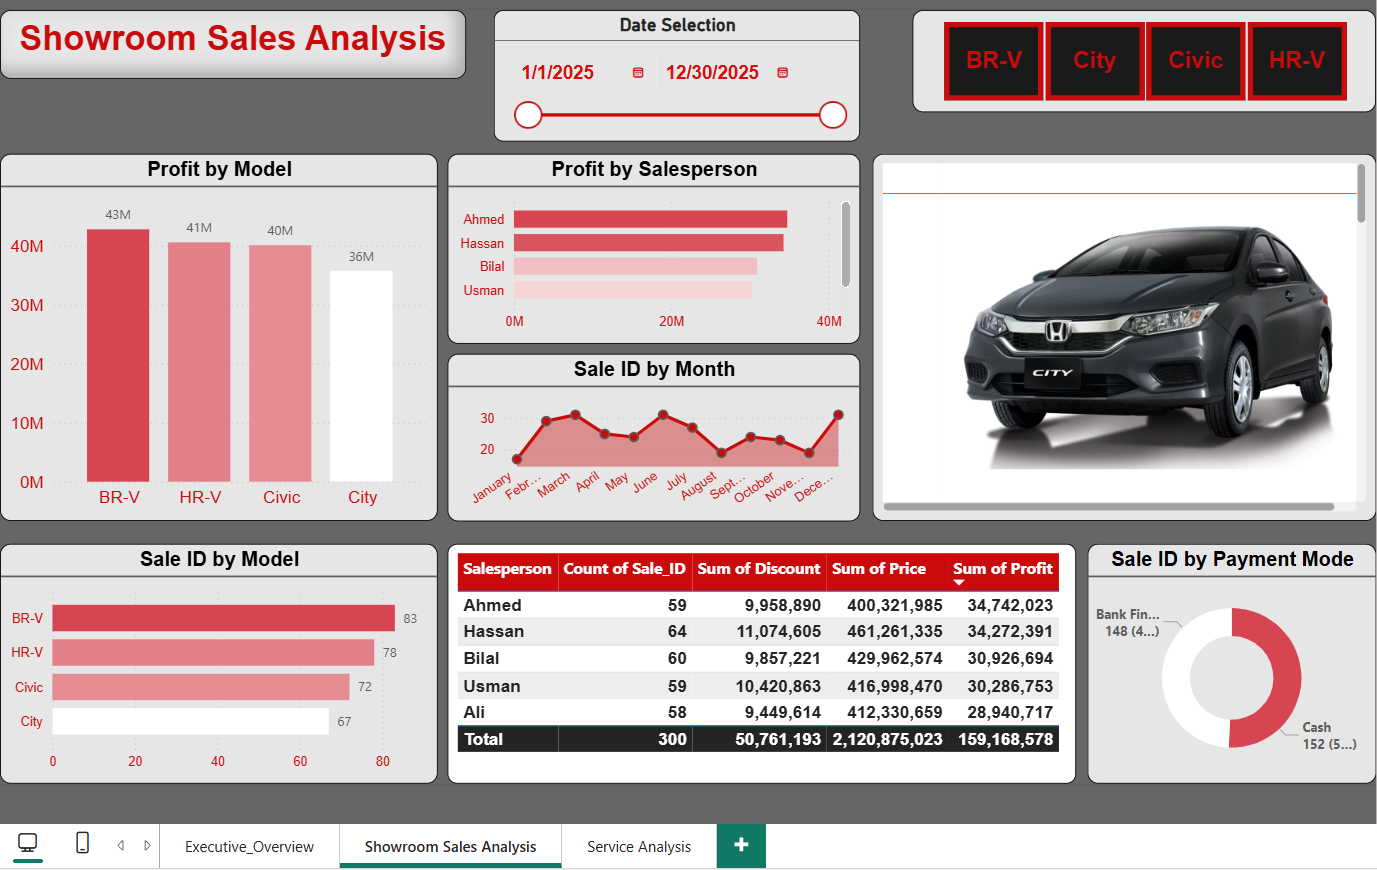

Layout of this report page (visuals, bound fields, positions):
{"tool":"powerbi","page":{"name":"Showroom Sales Analysis","canvas":[1280,720],"ordinal":1},"visuals":[{"type":"clusteredBarChart","title":"Sale ID by Model","fields":{"Category":["Honda_Car _Sale.Model"],"Y":["CountNonNull(Honda_Car _Sale.Sale_ID)"]},"box":[0,496.5,407,223.3],"z":0},{"type":"clusteredColumnChart","title":"Profit by Model","fields":{"Category":["Honda_Car _Sale.Model"],"Y":["Sum(Honda_Car _Sale.Profite)"]},"box":[0,133.7,407,341.9],"z":1000},{"type":"donutChart","title":"Sale ID by Payment Mode","fields":{"Category":["Honda_Car _Sale.Payment_Mode"],"Y":["CountNonNull(Honda_Car _Sale.Sale_ID)"]},"box":[1011.6,496.5,268.6,223.3],"z":2000},{"type":"tableEx","fields":{"Values":["Honda_Car _Sale.Salesperson","CountNonNull(Honda_Car _Sale.Sale_ID)","Sum(Honda_Car _Sale.Discount)","Sum(Honda_Car _Sale.Price)","Sum(Honda_Car _Sale.Profite)"]},"box":[416.3,496.5,584.9,223.3],"z":3000},{"type":"textbox","box":[0,0,433.7,64],"z":4000},{"type":"slicer","title":"Date Selection","fields":{"Values":["Honda_Car _Sale.Sale_Date"]},"box":[459.3,0,340.7,122.1],"z":5000},{"type":"slicer","fields":{"Values":["Honda_Car _Sale.Model"]},"box":[848.8,0,431.4,95.3],"z":6000},{"type":"tableEx","fields":{"Values":["Honda_Car _Sale.Model","Sheet1.URL"]},"box":[811.6,133.7,468.6,341.9],"z":7000},{"type":"barChart","title":"Profit by Salesperson","fields":{"Category":["Honda_Car _Sale.Salesperson"],"Y":["Sum(Honda_Car _Sale.Profite)"]},"box":[416.3,133.7,383.7,176.7],"z":8000},{"type":"stackedAreaChart","title":"Sale ID by Month","fields":{"Category":["Honda_Car _Sale.Sale_Date.Variation.Date Hierarchy.Month"],"Y":["CountNonNull(Honda_Car _Sale.Sale_ID)"]},"box":[416.3,319.8,383.7,155.8],"z":9000}]}

Visuals, with their boxes on the page's 1280x720 design canvas (x1, y1, x2, y2). These are canvas units, not pixel positions in the 1377x870 screenshot, which may show the page scaled, cropped or inside an application window:
"Sale ID by Model" clusteredBarChart: box(0, 496, 407, 720)
"Profit by Model" clusteredColumnChart: box(0, 134, 407, 476)
"Sale ID by Payment Mode" donutChart: box(1012, 496, 1280, 720)
tableEx - Honda_Car _Sale.Salesperson x CountNonNull(Honda_Car _Sale.Sale_ID): box(416, 496, 1001, 720)
textbox: box(0, 0, 434, 64)
"Date Selection" slicer: box(459, 0, 800, 122)
slicer - Honda_Car _Sale.Model: box(849, 0, 1280, 95)
tableEx - Honda_Car _Sale.Model x Sheet1.URL: box(812, 134, 1280, 476)
"Profit by Salesperson" barChart: box(416, 134, 800, 310)
"Sale ID by Month" stackedAreaChart: box(416, 320, 800, 476)
